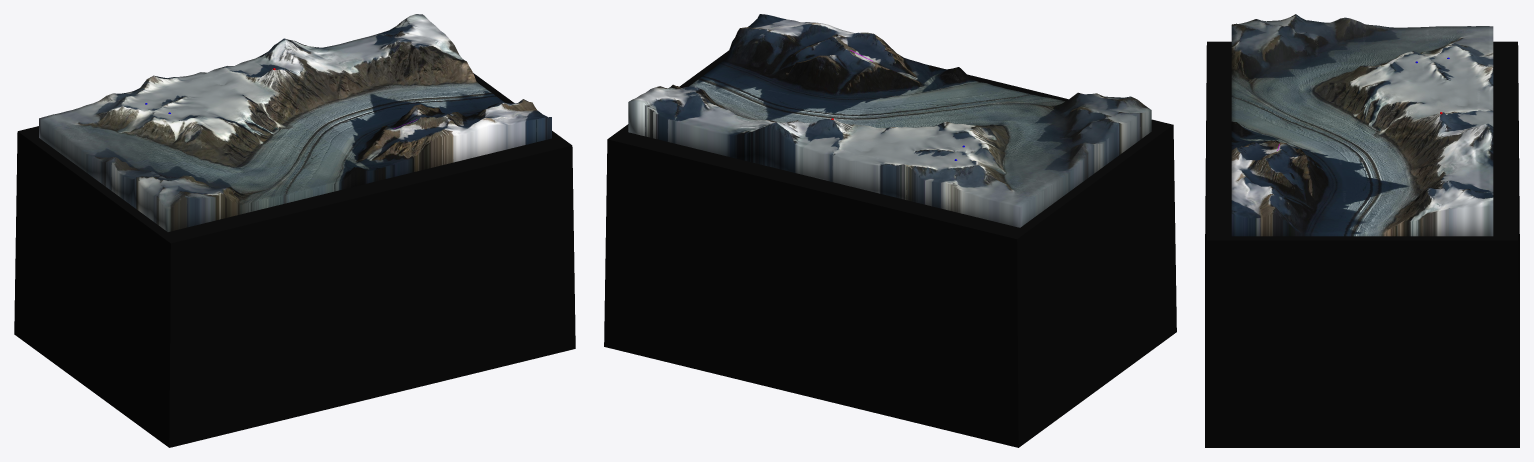
The model's file is Ejemplo Exposicion2.glb.
3 renders of one model, left to right at view 1: azimuth 30°, elevation 25°; view 2: azimuth 150°, elevation 25°; view 3: azimuth 270°, elevation 25°, orthographic. The views are drawn at different scales.
Parts seen in each view (by area): view 1: Cubo.001, EXPORT_GOOGLE_SAT_WM; view 2: Cubo.001, EXPORT_GOOGLE_SAT_WM; view 3: Cubo.001, EXPORT_GOOGLE_SAT_WM.
Part boxes in pixels (bbox=[...]): Cubo.001: bbox=[14, 73, 575, 447]; EXPORT_GOOGLE_SAT_WM: bbox=[39, 14, 551, 231]; Cubo.001: bbox=[604, 50, 1176, 447]; EXPORT_GOOGLE_SAT_WM: bbox=[628, 14, 1151, 227]; Cubo.001: bbox=[1205, 41, 1519, 447]; EXPORT_GOOGLE_SAT_WM: bbox=[1231, 14, 1493, 236].
Size of the model in its own units: 1.14 by 0.6608 by 0.7572.
5 materials, 1 textured.
